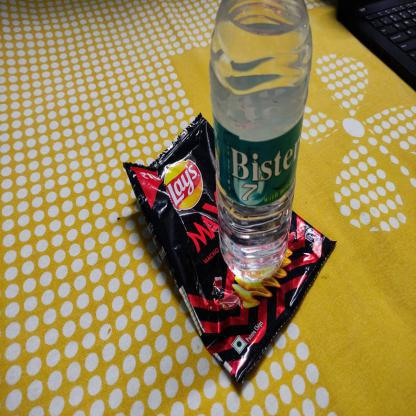max_chili: (135, 165, 237, 377)
